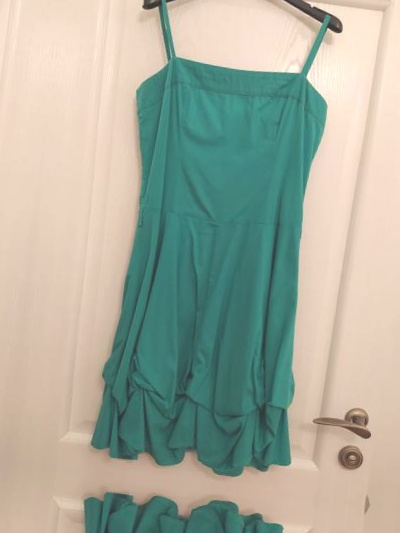Dress: (59, 0, 386, 492), (3, 479, 330, 533), (0, 0, 10, 448), (393, 525, 400, 533)
